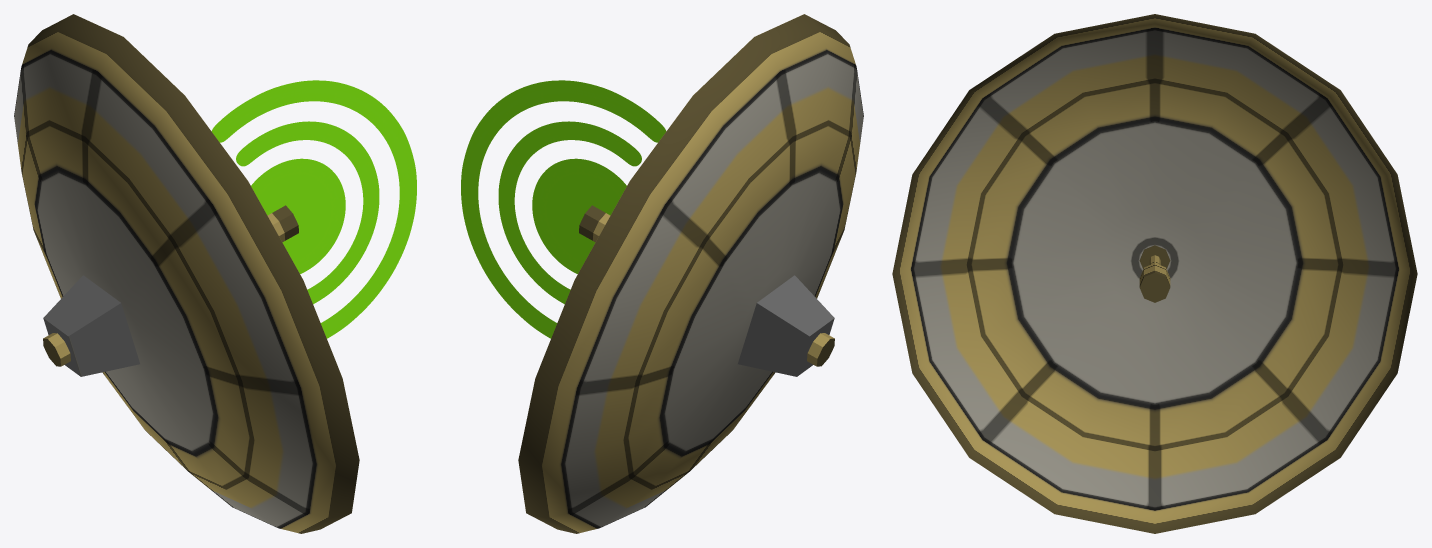
The model's file is Env_PowerUp_ThermalRadar.fbx.
3 renders of one model, left to right at view 1: azimuth 30°, elevation 25°; view 2: azimuth 150°, elevation 25°; view 3: azimuth 270°, elevation 25°, orthographic. The views are drawn at different scales.
Parts seen in each view (by area): view 1: polySurface43; view 2: polySurface43; view 3: polySurface43.
Boxes of the visible parts, box(x1,y1,x2,y2) form: polySurface43: box(14, 14, 416, 533); polySurface43: box(461, 14, 863, 533); polySurface43: box(892, 14, 1417, 533).
Bounding box in the file's own units: 1.83 × 2.35 × 2.45.
